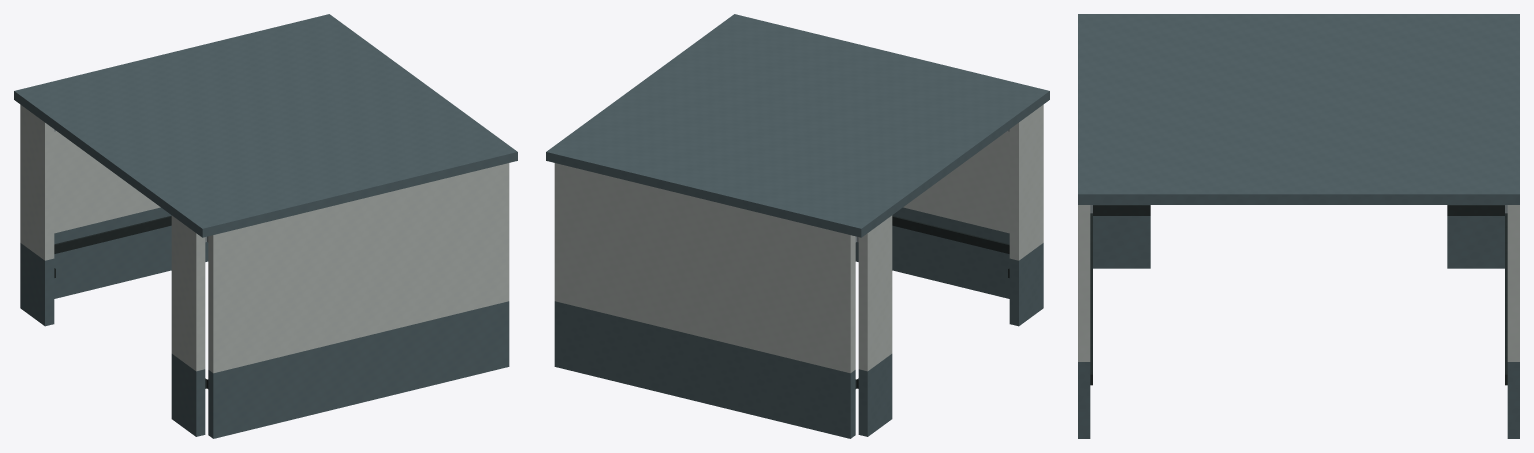
File: AST-STF-G3-010.glb
The picture shows the model from 3 angles, left to right: view 1: azimuth 30°, elevation 25°; view 2: azimuth 150°, elevation 25°; view 3: azimuth 270°, elevation 25°; orthographic projection. The views are drawn at different scales.
Visible parts, largest first — view 1: overhead_staff_bluegrey_paint_breakroom, screen_wall_staff_white_paint_breakroom, screen_wall_staff_bluegrey_paint_breakroom, screen_wall_staff_rubber_breakroom; view 2: overhead_staff_bluegrey_paint_breakroom, screen_wall_staff_white_paint_breakroom, screen_wall_staff_bluegrey_paint_breakroom, screen_wall_staff_rubber_breakroom; view 3: overhead_staff_bluegrey_paint_breakroom, screen_wall_staff_bluegrey_paint_breakroom, screen_wall_staff_white_paint_breakroom, screen_wall_staff_rubber_breakroom.
Boxes of the visible parts, x1,y1,x2,y2 form: overhead_staff_bluegrey_paint_breakroom: [14, 14, 517, 237]; screen_wall_staff_white_paint_breakroom: [20, 104, 509, 373]; screen_wall_staff_bluegrey_paint_breakroom: [20, 207, 509, 438]; screen_wall_staff_rubber_breakroom: [54, 215, 208, 388]; overhead_staff_bluegrey_paint_breakroom: [546, 14, 1049, 237]; screen_wall_staff_white_paint_breakroom: [554, 104, 1043, 373]; screen_wall_staff_bluegrey_paint_breakroom: [554, 207, 1043, 438]; screen_wall_staff_rubber_breakroom: [855, 215, 1009, 388]; overhead_staff_bluegrey_paint_breakroom: [1078, 14, 1519, 204]; screen_wall_staff_bluegrey_paint_breakroom: [1078, 216, 1519, 438]; screen_wall_staff_white_paint_breakroom: [1078, 205, 1519, 361]; screen_wall_staff_rubber_breakroom: [1090, 205, 1507, 385].
Size of the model in its own units: 5.18 by 3.34 by 5.36.
5 materials, 5 textured.
